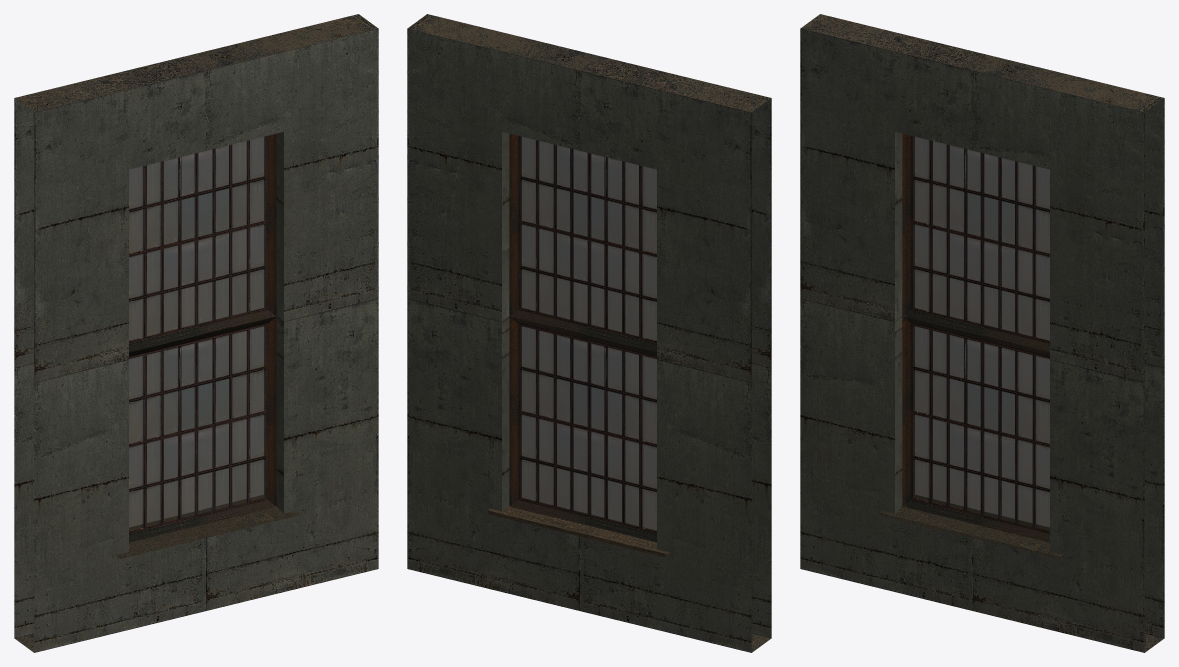
The model's file is wall_rg_1_m_2.glb.
The picture shows the model from 3 angles, left to right: view 1: azimuth 30°, elevation 25°; view 2: azimuth 150°, elevation 25°; view 3: azimuth 330°, elevation 25°; orthographic projection.
Parts seen in each view (by area): view 1: wall_rg_1_m_2; view 2: wall_rg_1_m_2; view 3: wall_rg_1_m_2.
Boxes of the visible parts, box(x1,y1,x2,y2) form: wall_rg_1_m_2: box(14, 14, 378, 652); wall_rg_1_m_2: box(407, 14, 771, 652); wall_rg_1_m_2: box(800, 14, 1164, 652).
Bounding box in the file's own units: 4 × 6 × 0.505.
Materials: 6 (6 with a texture image).
